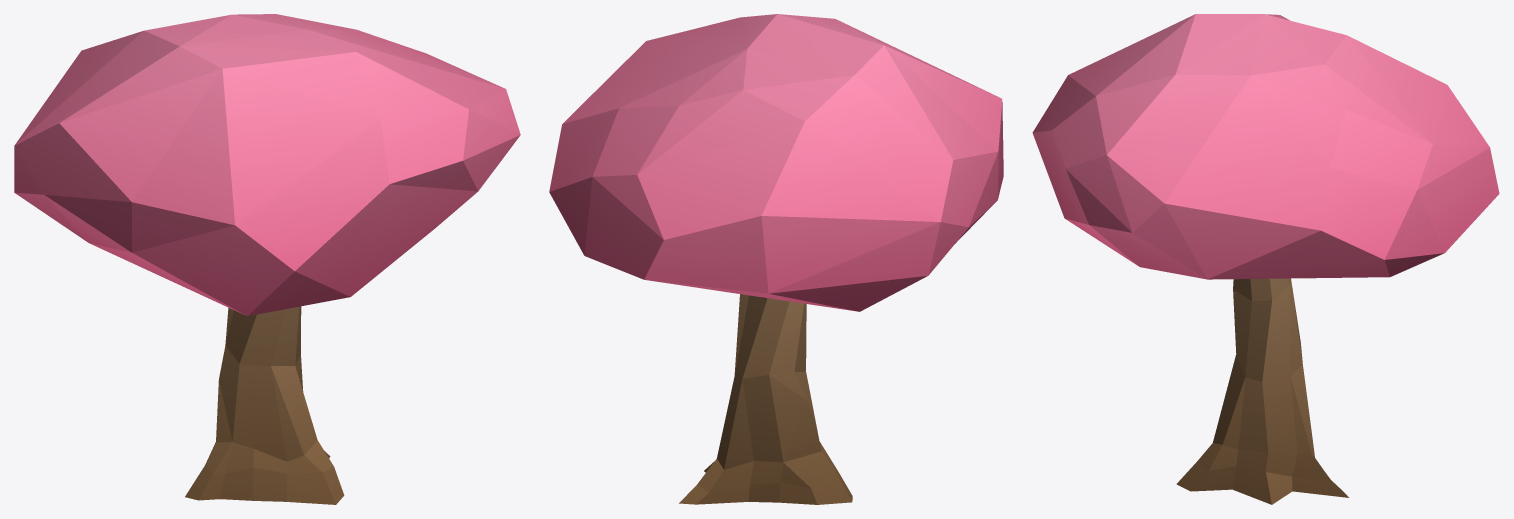
The model's file is tree_mammoth_pink.fbx.
3 views of the same model, side by side, from view 1: azimuth 30°, elevation 25°; view 2: azimuth 150°, elevation 25°; view 3: azimuth 270°, elevation 25° (orthographic). The views are drawn at different scales.
Parts seen in each view (by area): view 1: tree_mammoth_pink; view 2: tree_mammoth_pink; view 3: tree_mammoth_pink.
Part boxes in pixels (x1,y1,x2,y2): tree_mammoth_pink: [14, 14, 520, 504]; tree_mammoth_pink: [549, 14, 1003, 504]; tree_mammoth_pink: [1032, 14, 1499, 504].
Size of the model in its own units: 7.5 by 8 by 8.
1 material, 1 textured.
